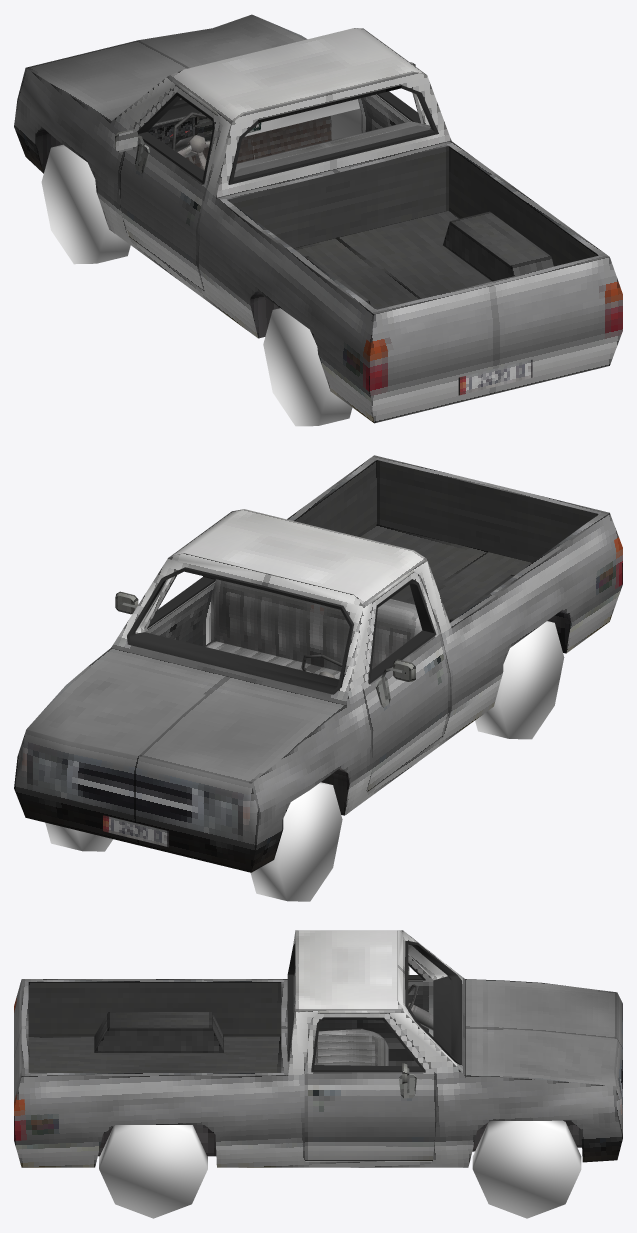
File: civilian_car.glb
The picture shows the model from 3 angles, top to bottom: view 1: azimuth 30°, elevation 25°; view 2: azimuth 150°, elevation 25°; view 3: azimuth 270°, elevation 25°; orthographic projection. The views are drawn at different scales.
Parts seen in each view (by area): view 1: Car; view 2: Car; view 3: Car.
Boxes of the visible parts, left/top/right/bottom form: Car: left=14, top=14, right=622, bottom=426; Car: left=14, top=455, right=622, bottom=901; Car: left=14, top=930, right=622, bottom=1218.
Bounding box in the file's own units: 2.57 × 1.99 × 5.36.
3 materials, 2 textured.
